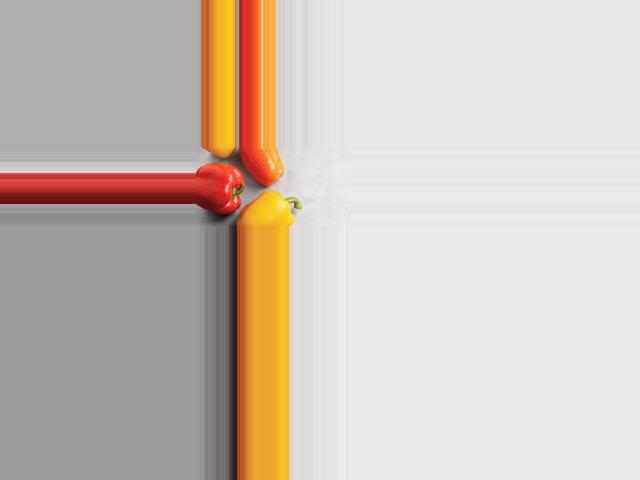bell_pepper: (196, 162, 245, 216)
